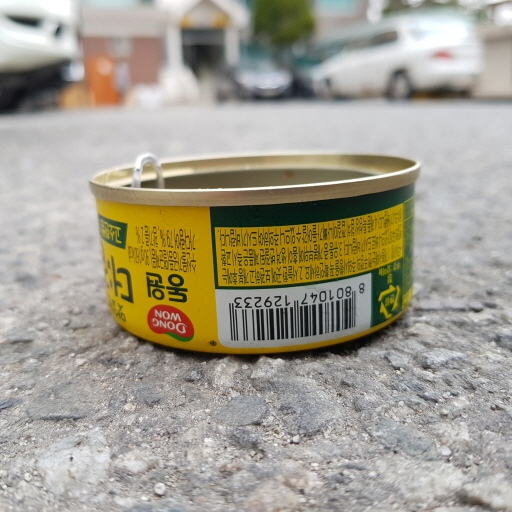Metal_1: (90, 148, 423, 355)
